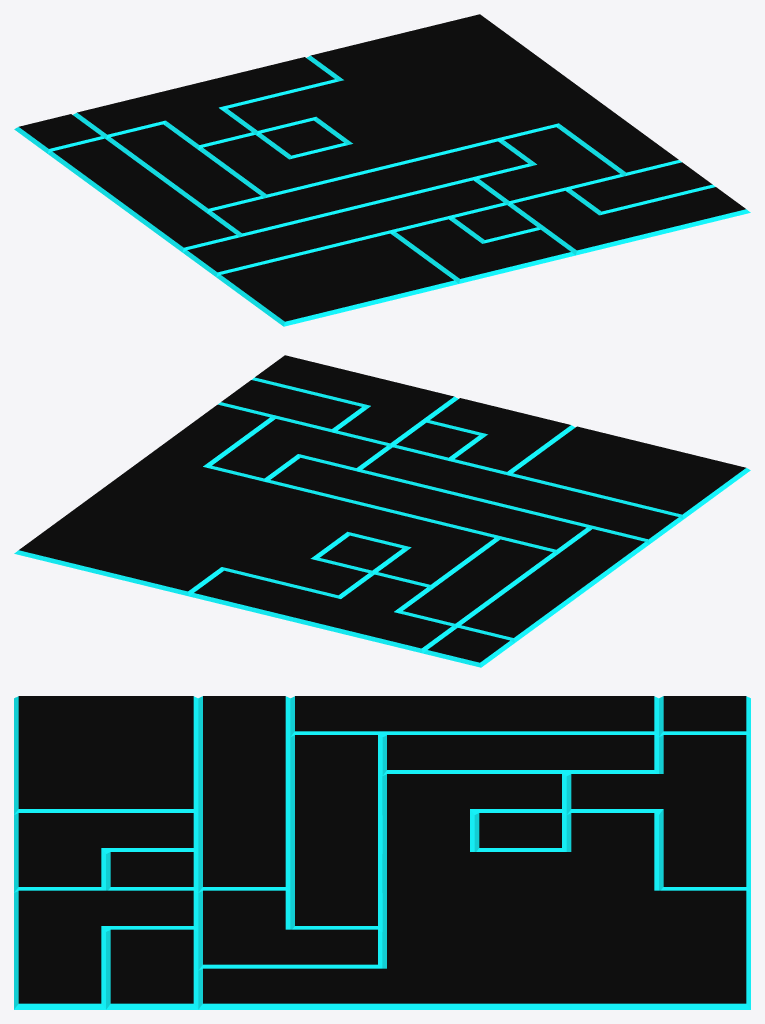
3 views of the same model, one above another, from view 1: azimuth 30°, elevation 25°; view 2: azimuth 150°, elevation 25°; view 3: azimuth 270°, elevation 25° (orthographic). The views are drawn at different scales.
Parts seen in each view (by area): view 1: Cyberpunk Square Tile.008; view 2: Cyberpunk Square Tile.008; view 3: Cyberpunk Square Tile.008.
Part boxes in pixels (left/top/right/bottom): Cyberpunk Square Tile.008: left=14, top=14, right=750, bottom=326; Cyberpunk Square Tile.008: left=14, top=355, right=750, bottom=667; Cyberpunk Square Tile.008: left=14, top=696, right=750, bottom=1009.
Bounding box in the file's own units: 0.7964 × 0.005 × 0.7964.
1 material, 1 textured.
